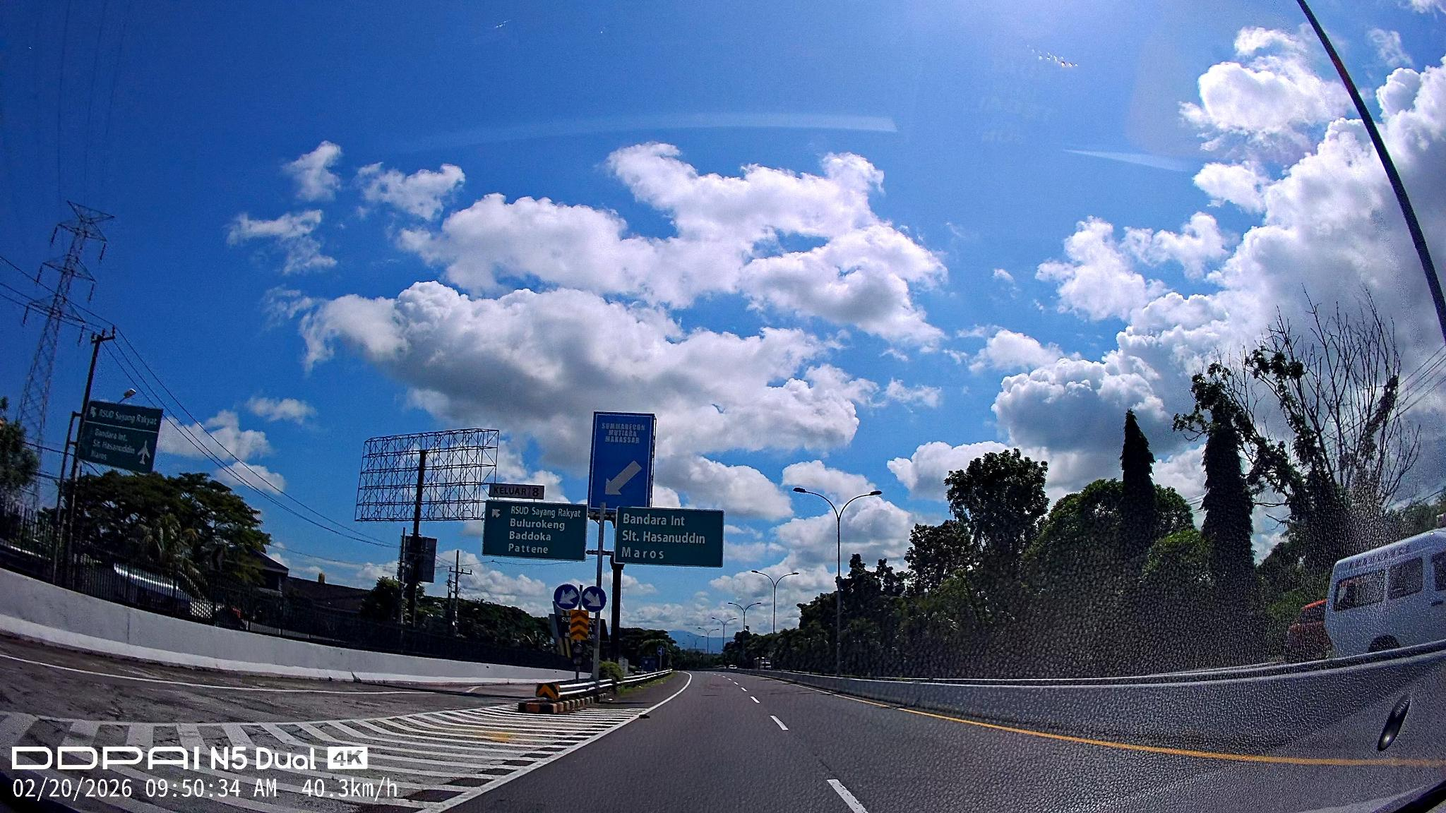rambu_teks: (613, 506, 725, 568), (481, 499, 589, 562)
